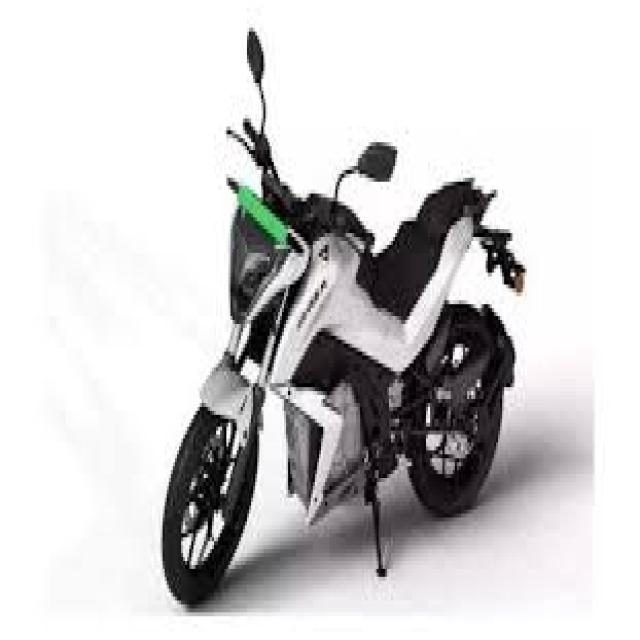bike: (162, 25, 528, 604)
